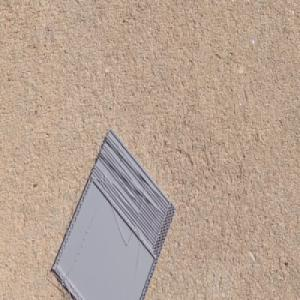PlasticPart: (50, 127, 180, 300)
